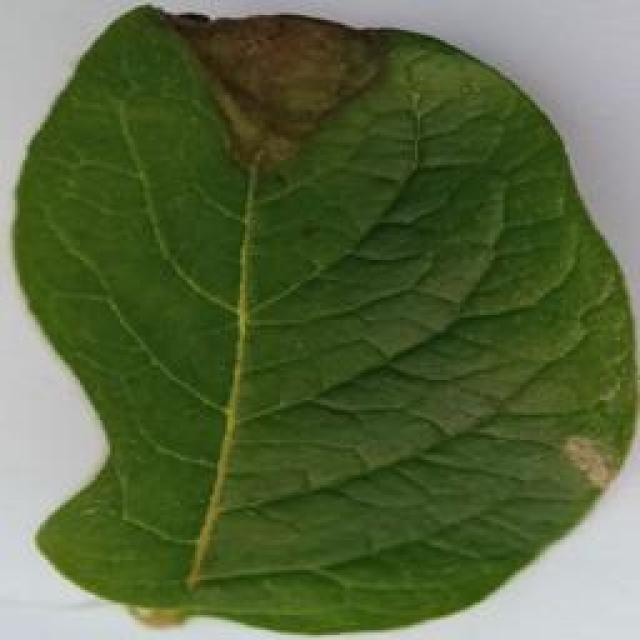Potato_Late_Blight: (14, 9, 627, 632)
